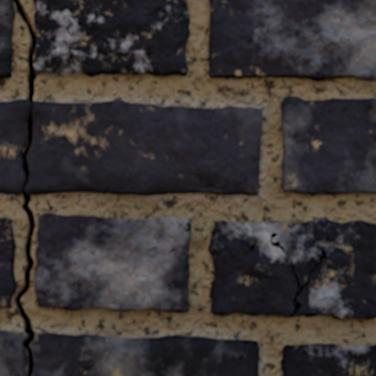brick: (209, 218, 375, 318), (35, 213, 190, 311), (209, 0, 375, 80), (34, 0, 189, 76), (281, 97, 375, 194), (281, 344, 375, 375), (0, 218, 16, 306), (0, 10, 14, 77), (0, 0, 12, 15)
broken_brick: (26, 99, 262, 196), (32, 332, 259, 375), (0, 98, 31, 195), (0, 330, 25, 375)
crack: (0, 0, 37, 375), (270, 231, 329, 317), (184, 222, 191, 232)
